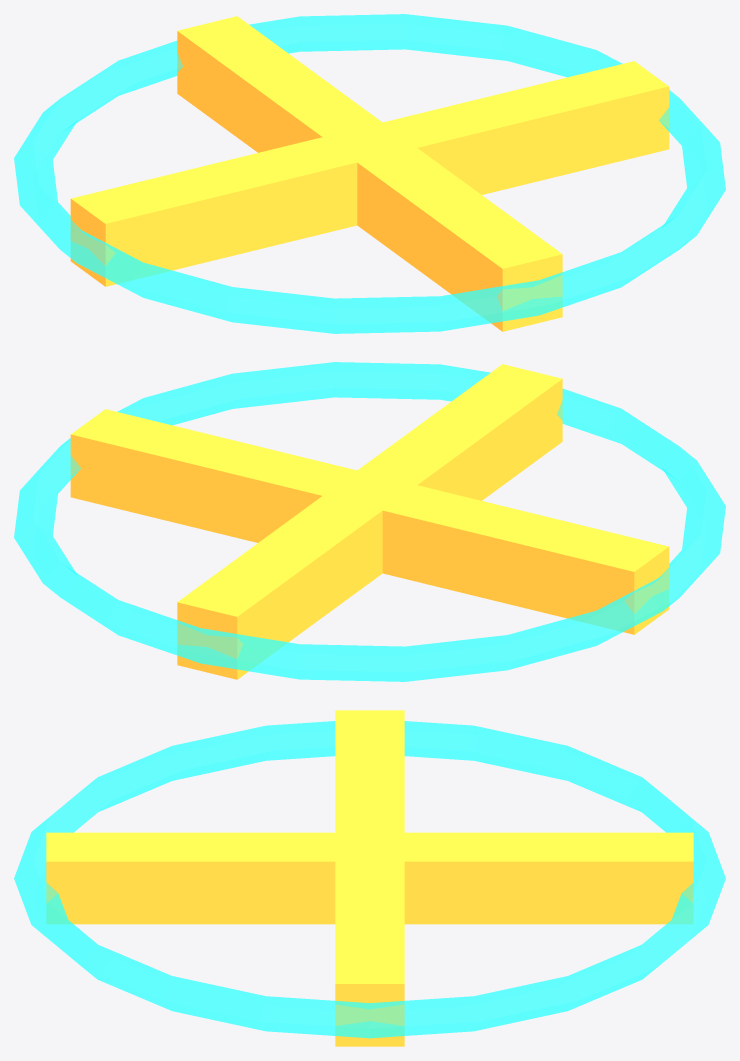
Rendered from aegis-fx.glb.
3 views of the same model, one above another, from view 1: azimuth 30°, elevation 25°; view 2: azimuth 150°, elevation 25°; view 3: azimuth 270°, elevation 25° (orthographic).
Visible parts, largest first — view 1: star-b, halo, star-a; view 2: star-b, halo, star-a; view 3: star-a, halo, star-b.
Part boxes in pixels (x1,y1,x2,y2): star-b: (70, 61, 669, 286); halo: (14, 14, 725, 333); star-a: (177, 16, 562, 331); star-b: (70, 409, 669, 634); halo: (14, 362, 725, 681); star-a: (177, 364, 562, 679); star-a: (46, 832, 693, 924); halo: (14, 721, 725, 1038); star-b: (335, 710, 404, 1046).
Bounding box in the file's own units: 1.65 × 0.16 × 1.65.
